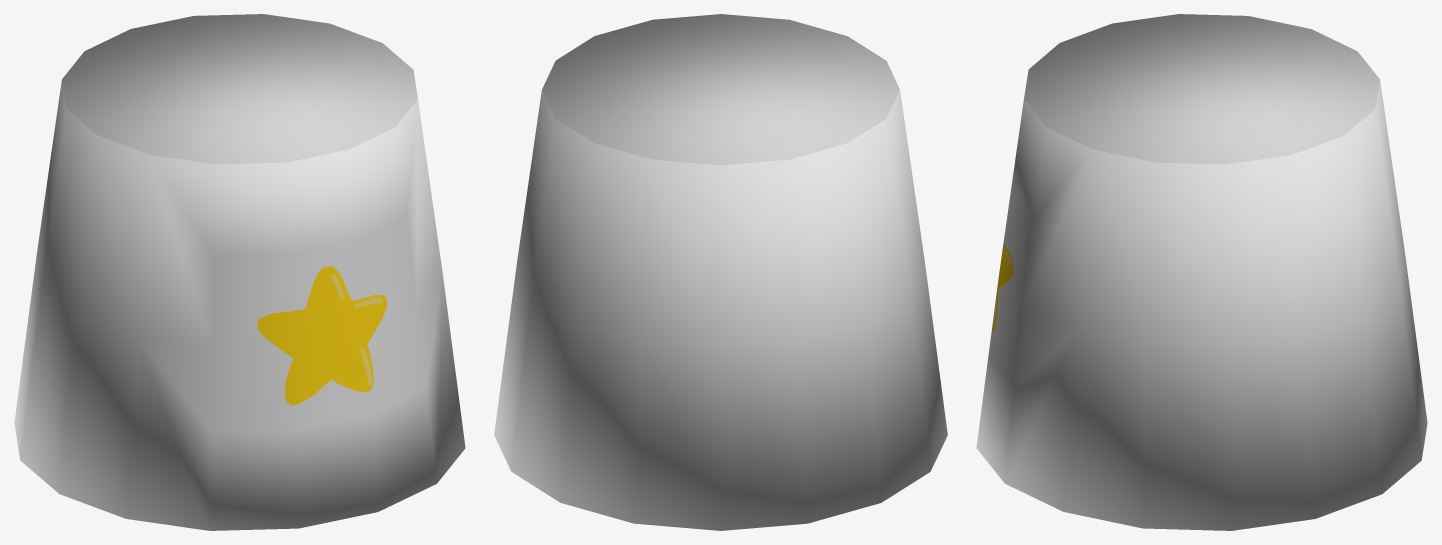
File: Cup.fbx
The picture shows the model from 3 angles, left to right: view 1: azimuth 30°, elevation 25°; view 2: azimuth 150°, elevation 25°; view 3: azimuth 270°, elevation 25°; orthographic projection.
Parts seen in each view (by area): view 1: Cylinder; view 2: Cylinder; view 3: Cylinder.
Part boxes in pixels (x1,y1,x2,y2): Cylinder: (14,14,465,530); Cylinder: (494,14,947,530); Cylinder: (976,14,1427,530).
Size of the model in its own units: 236 by 200 by 236.
Materials: 1 (1 with a texture image).
